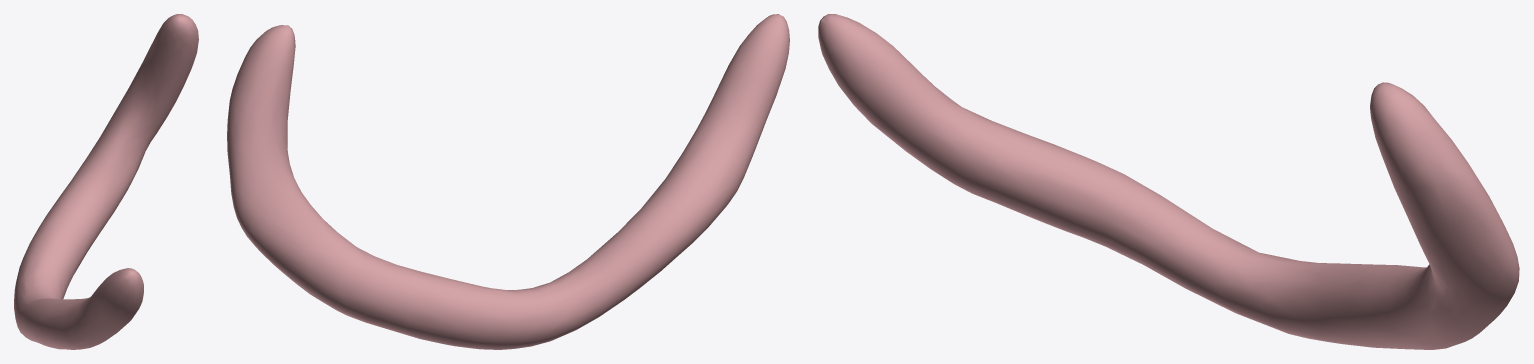
File: fma84043-r_mm3228m.glb
3 renders of one model, left to right at view 1: azimuth 30°, elevation 25°; view 2: azimuth 150°, elevation 25°; view 3: azimuth 270°, elevation 25°, orthographic. The views are drawn at different scales.
Parts seen in each view (by area): view 1: FMA84043-R_MM3228M; view 2: FMA84043-R_MM3228M; view 3: FMA84043-R_MM3228M.
Part boxes in pixels (<box>): FMA84043-R_MM3228M: <box>14,14,198,349</box>; FMA84043-R_MM3228M: <box>227,14,789,349</box>; FMA84043-R_MM3228M: <box>818,14,1519,349</box>.
Size of the model in its own units: 0.0168 by 0.0142 by 0.024.
